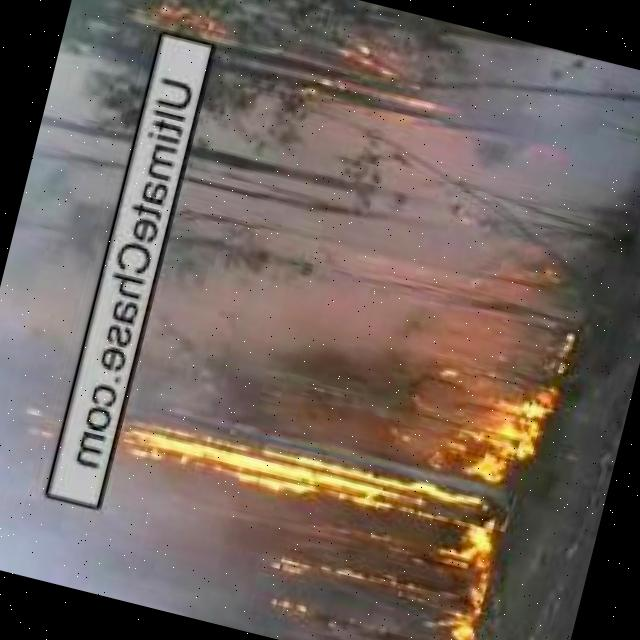fire: (105, 408, 473, 548), (450, 348, 559, 489), (260, 548, 404, 604), (306, 36, 415, 108), (440, 521, 505, 640), (137, 0, 253, 58)
